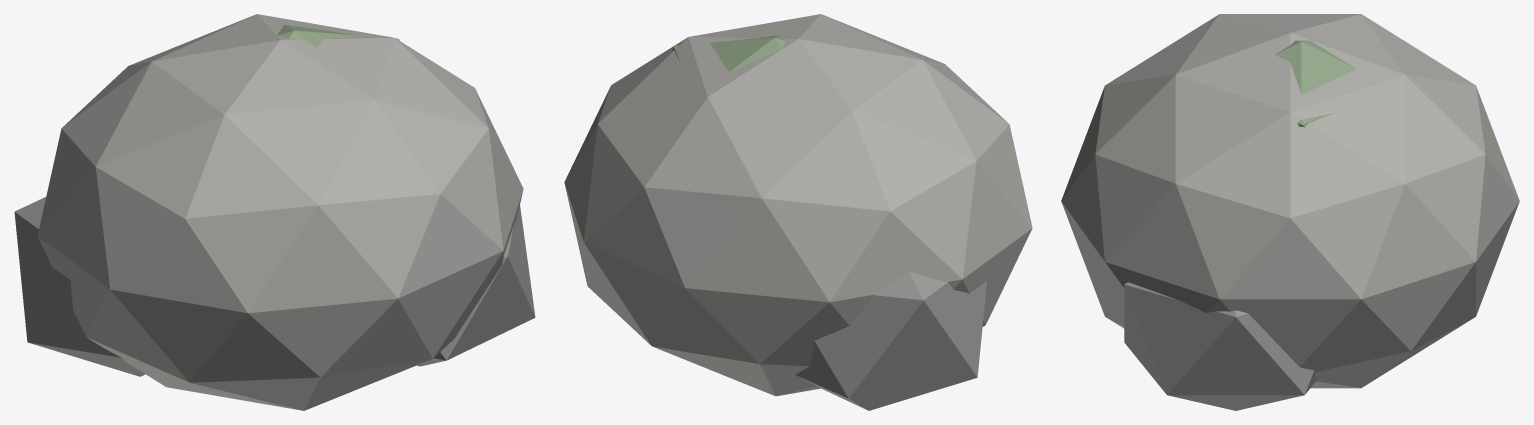
The model's file is rock_obstacle.glb.
3 renders of one model, left to right at view 1: azimuth 30°, elevation 25°; view 2: azimuth 150°, elevation 25°; view 3: azimuth 270°, elevation 25°, orthographic. The views are drawn at different scales.
Parts seen in each view (by area): view 1: BoulderMain, BoulderShoulderL, BoulderShoulderR, BoulderCap; view 2: BoulderMain, BoulderShoulderL, BoulderCap; view 3: BoulderMain, BoulderShoulderR, BoulderCap.
Part boxes in pixels (<box>): BoulderMain: <box>37,14,523,410</box>; BoulderShoulderL: <box>14,197,145,376</box>; BoulderShoulderR: <box>417,206,535,366</box>; BoulderCap: <box>277,24,399,47</box>; BoulderMain: <box>564,14,1032,396</box>; BoulderShoulderL: <box>795,272,986,410</box>; BoulderCap: <box>672,35,785,71</box>; BoulderMain: <box>1061,14,1519,388</box>; BoulderShoulderR: <box>1124,282,1317,410</box>; BoulderCap: <box>1275,40,1356,127</box>.
Bounding box in the file's own units: 0.9763 × 0.75 × 0.9251.
